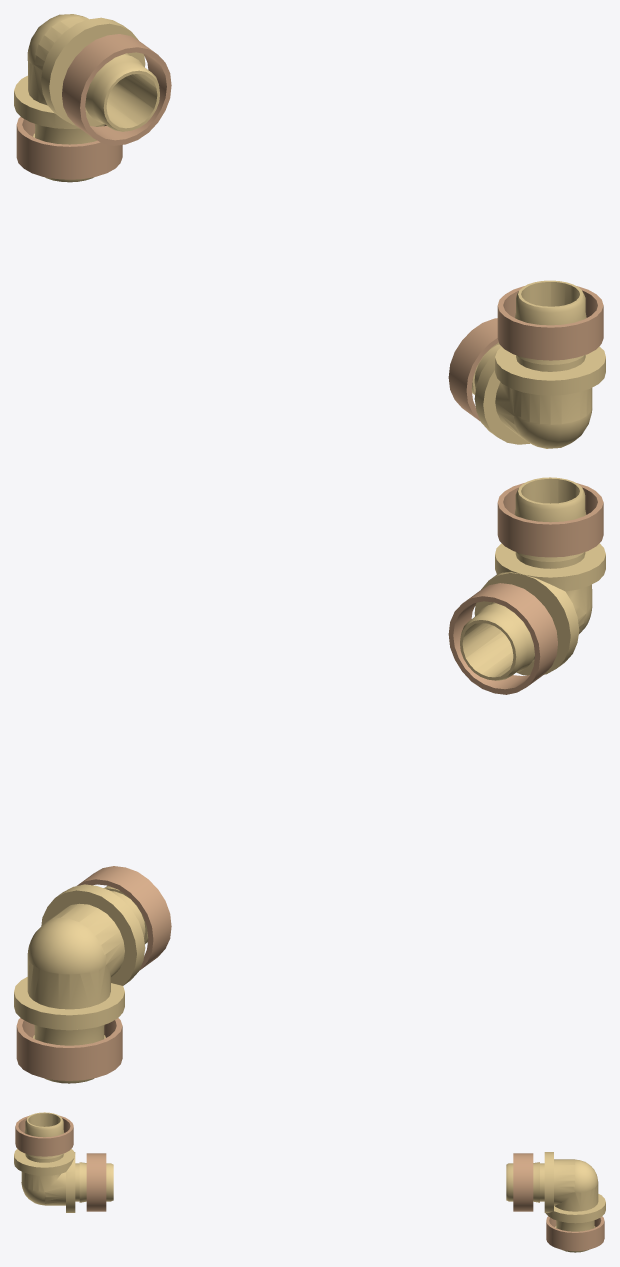
File: slab_pipes_supply__water-city_filter_and_softener-no_and_plumbing-attic_repipe+pex+pex_branch.glb
3 renders of one model, top to bottom at view 1: azimuth 30°, elevation 25°; view 2: azimuth 150°, elevation 25°; view 3: azimuth 270°, elevation 25°, orthographic. The views are drawn at different scales.
Parts seen in each view (by area): view 1: fit_pexelbow_pipe_supply_closet_riser__pex_0, fit_pexelbow_pipe_supply_closet_riser__pex_1; view 2: fit_pexelbow_pipe_supply_closet_riser__pex_0, fit_pexelbow_pipe_supply_closet_riser__pex_1; view 3: fit_pexelbow_pipe_supply_closet_riser__pex_1, fit_pexelbow_pipe_supply_closet_riser__pex_0.
Part boxes in pixels (x1=…): fit_pexelbow_pipe_supply_closet_riser__pex_0: x1=14, y1=14, x2=171, y2=182; fit_pexelbow_pipe_supply_closet_riser__pex_1: x1=448, y1=280, x2=605, y2=448; fit_pexelbow_pipe_supply_closet_riser__pex_0: x1=14, y1=866, x2=171, y2=1083; fit_pexelbow_pipe_supply_closet_riser__pex_1: x1=448, y1=477, x2=605, y2=694; fit_pexelbow_pipe_supply_closet_riser__pex_1: x1=14, y1=1112, x2=113, y2=1212; fit_pexelbow_pipe_supply_closet_riser__pex_0: x1=506, y1=1152, x2=605, y2=1252.
Size of the model in its own units: 0.0254 by 0.0571 by 0.2454.
